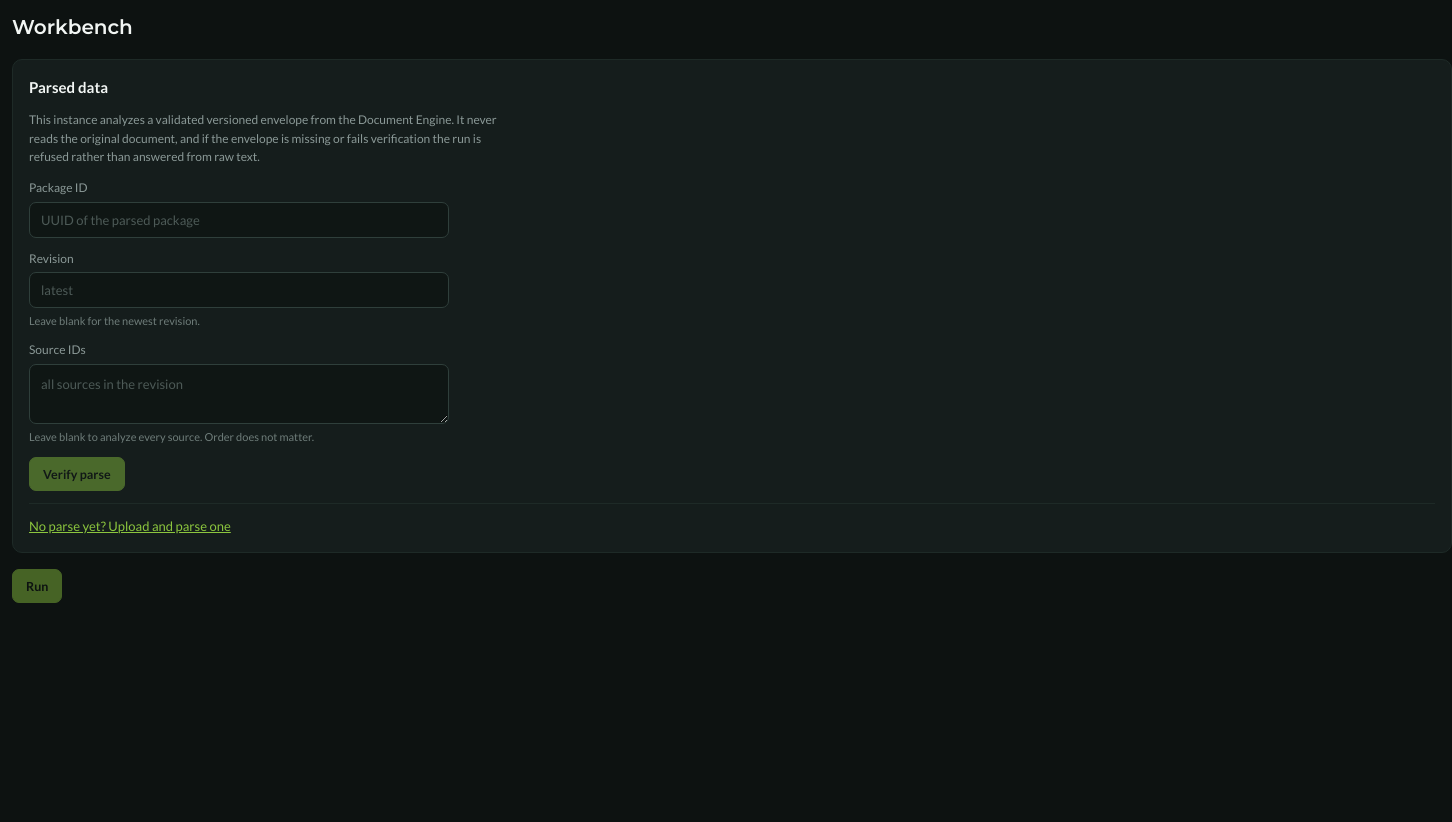
Test: InstanceWorkbench › pins an existing parse and reports what was pinned
The width and height of the screenshot is (1452, 822).
In the field labelled "Package ID": (239, 220) [29,202,449,238], type "44444444-4444-4444-8444-444444444444"
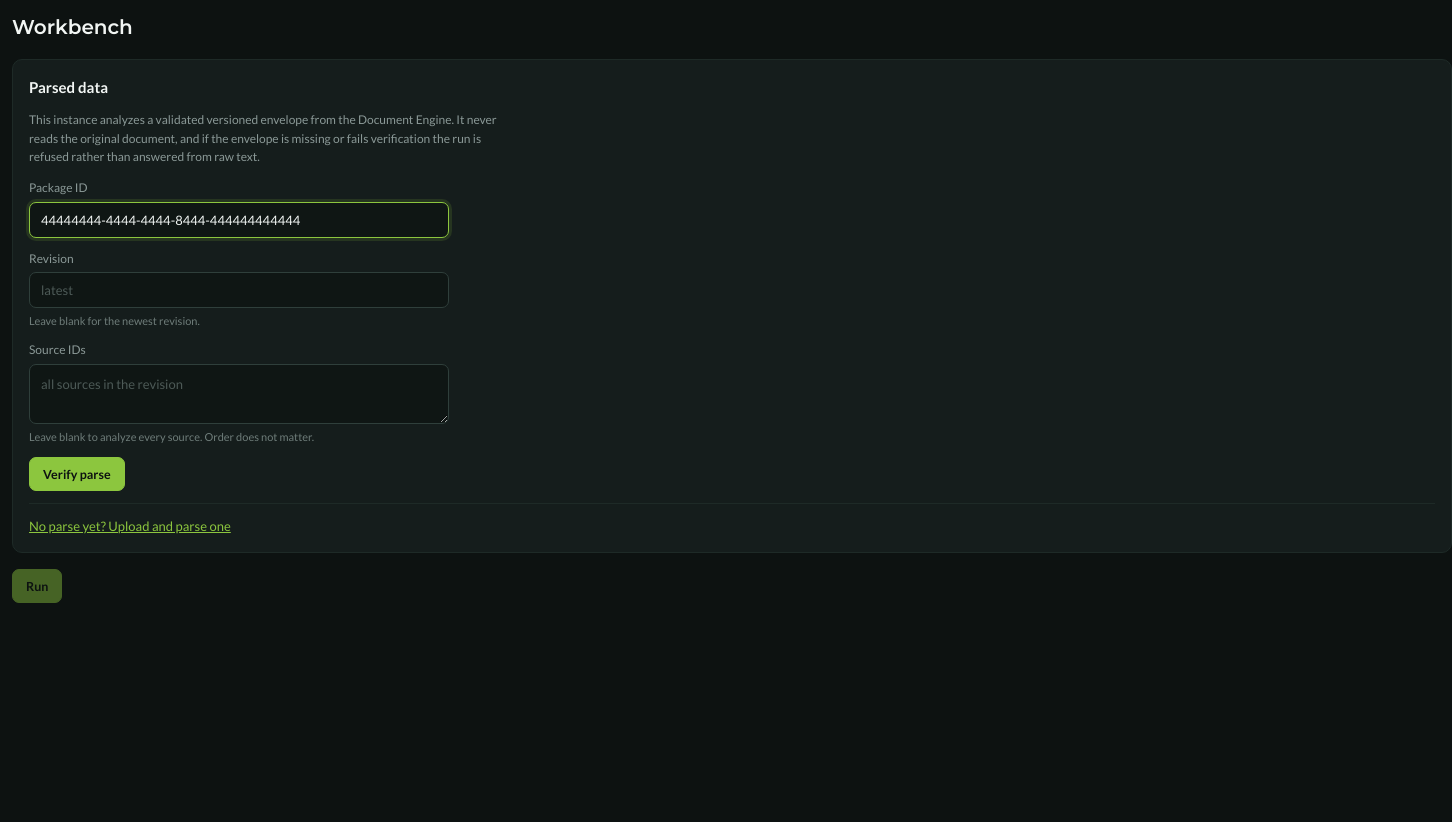
In the field labelled "Revision Leave blank for the newest revision.": (239, 290) [29,272,449,308], type "4"
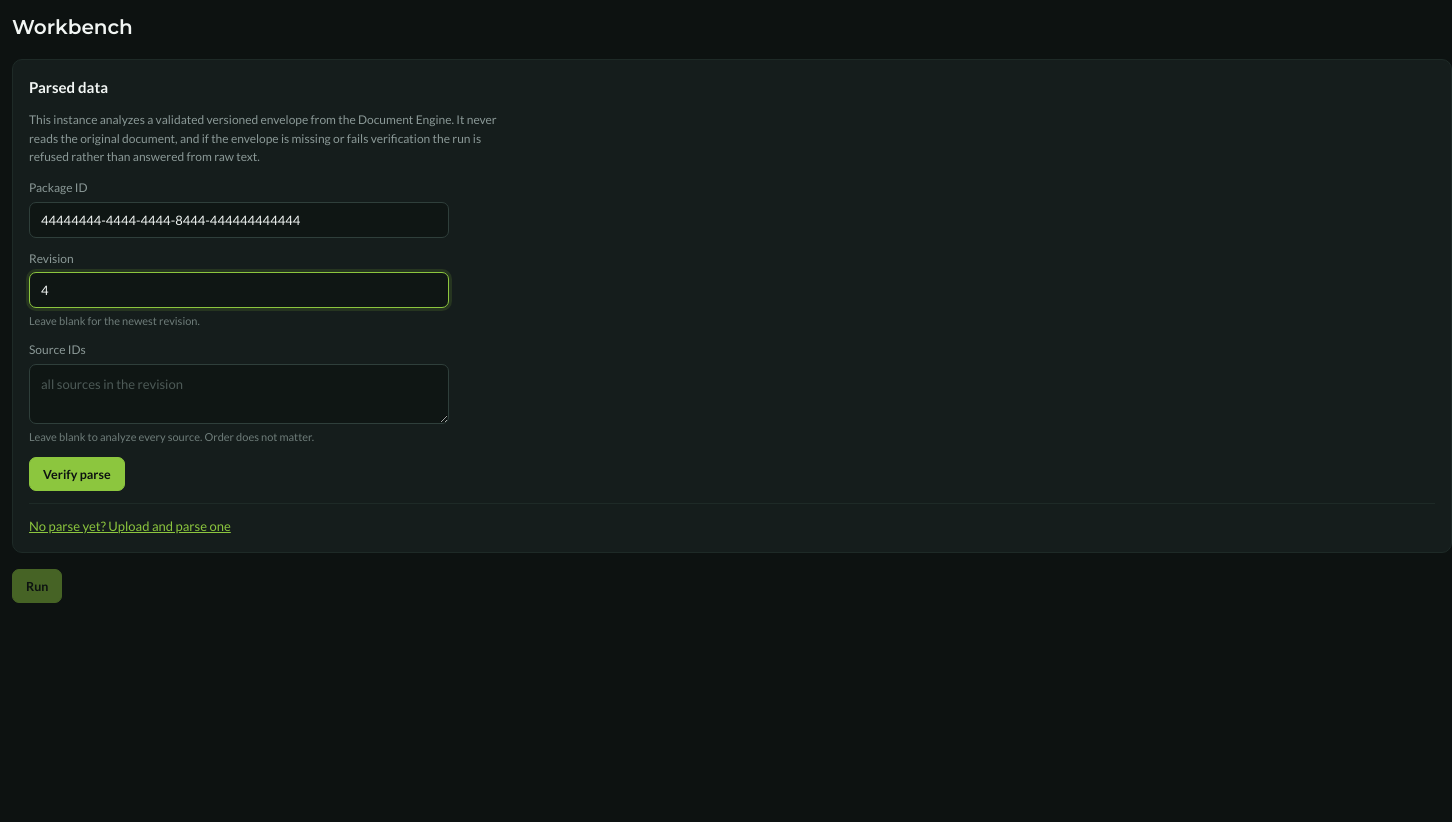
Click the button "Verify parse": (77, 474) [29,457,125,491]
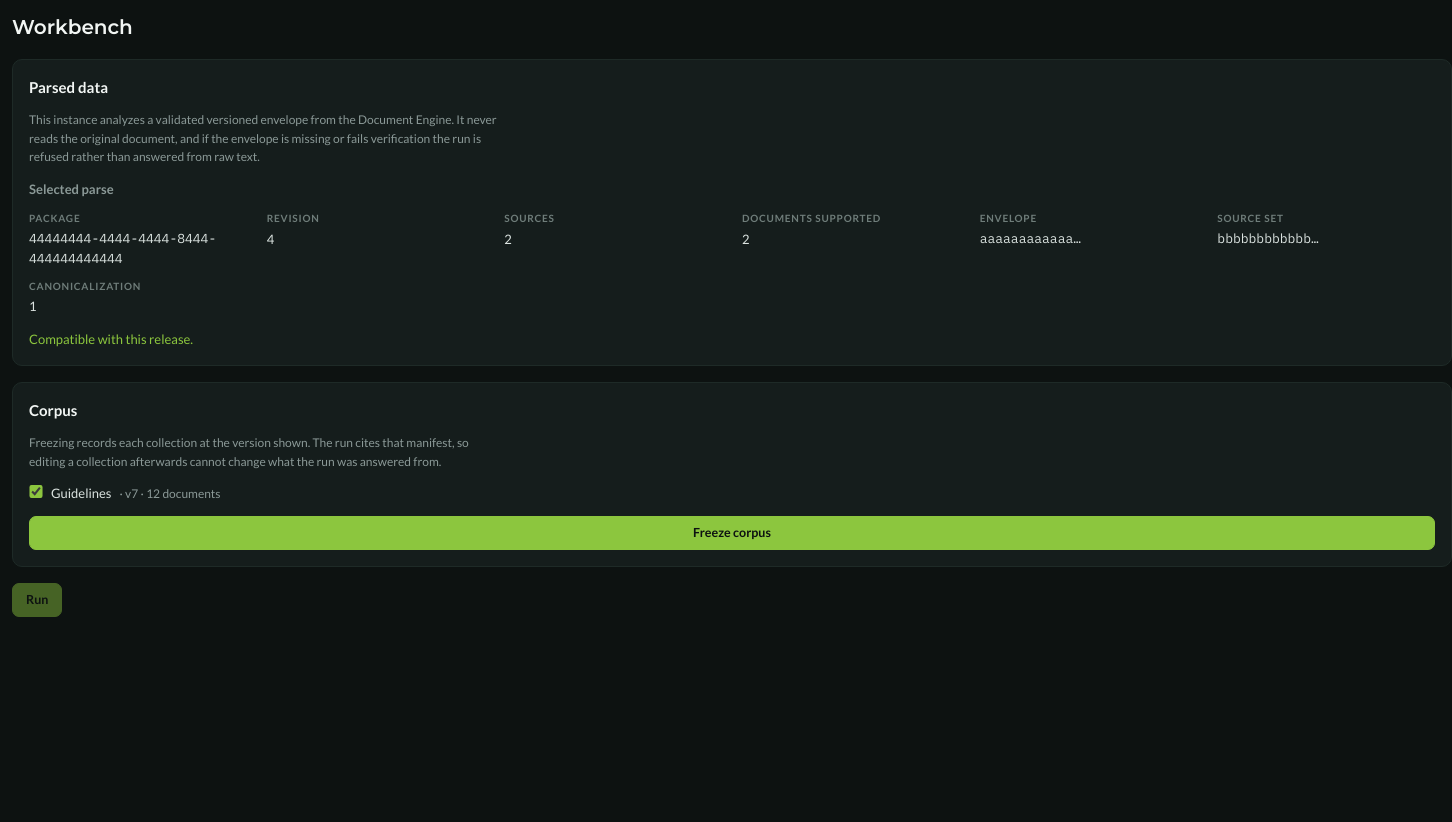
Now the text "Selected parse" shows "44444444-4444-4444-8444-444444444444", box [29,230,216,267]
Now the text "Sources" shows "2", box [504,231,512,247]
